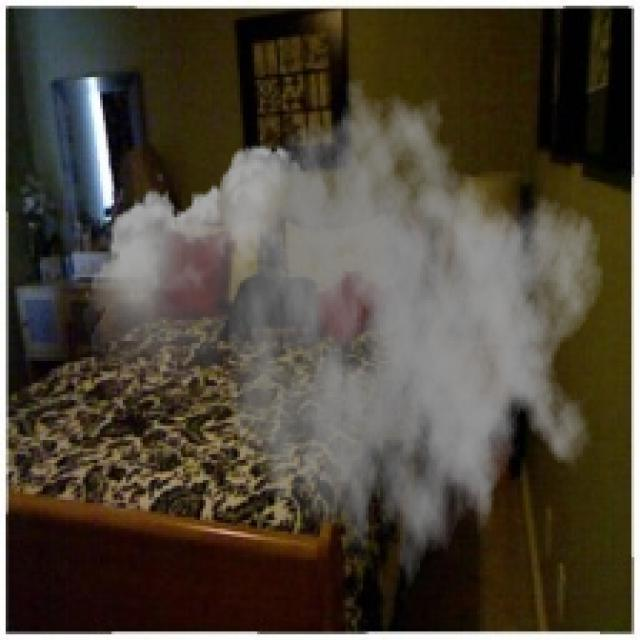Smoke: (83, 77, 606, 612)
